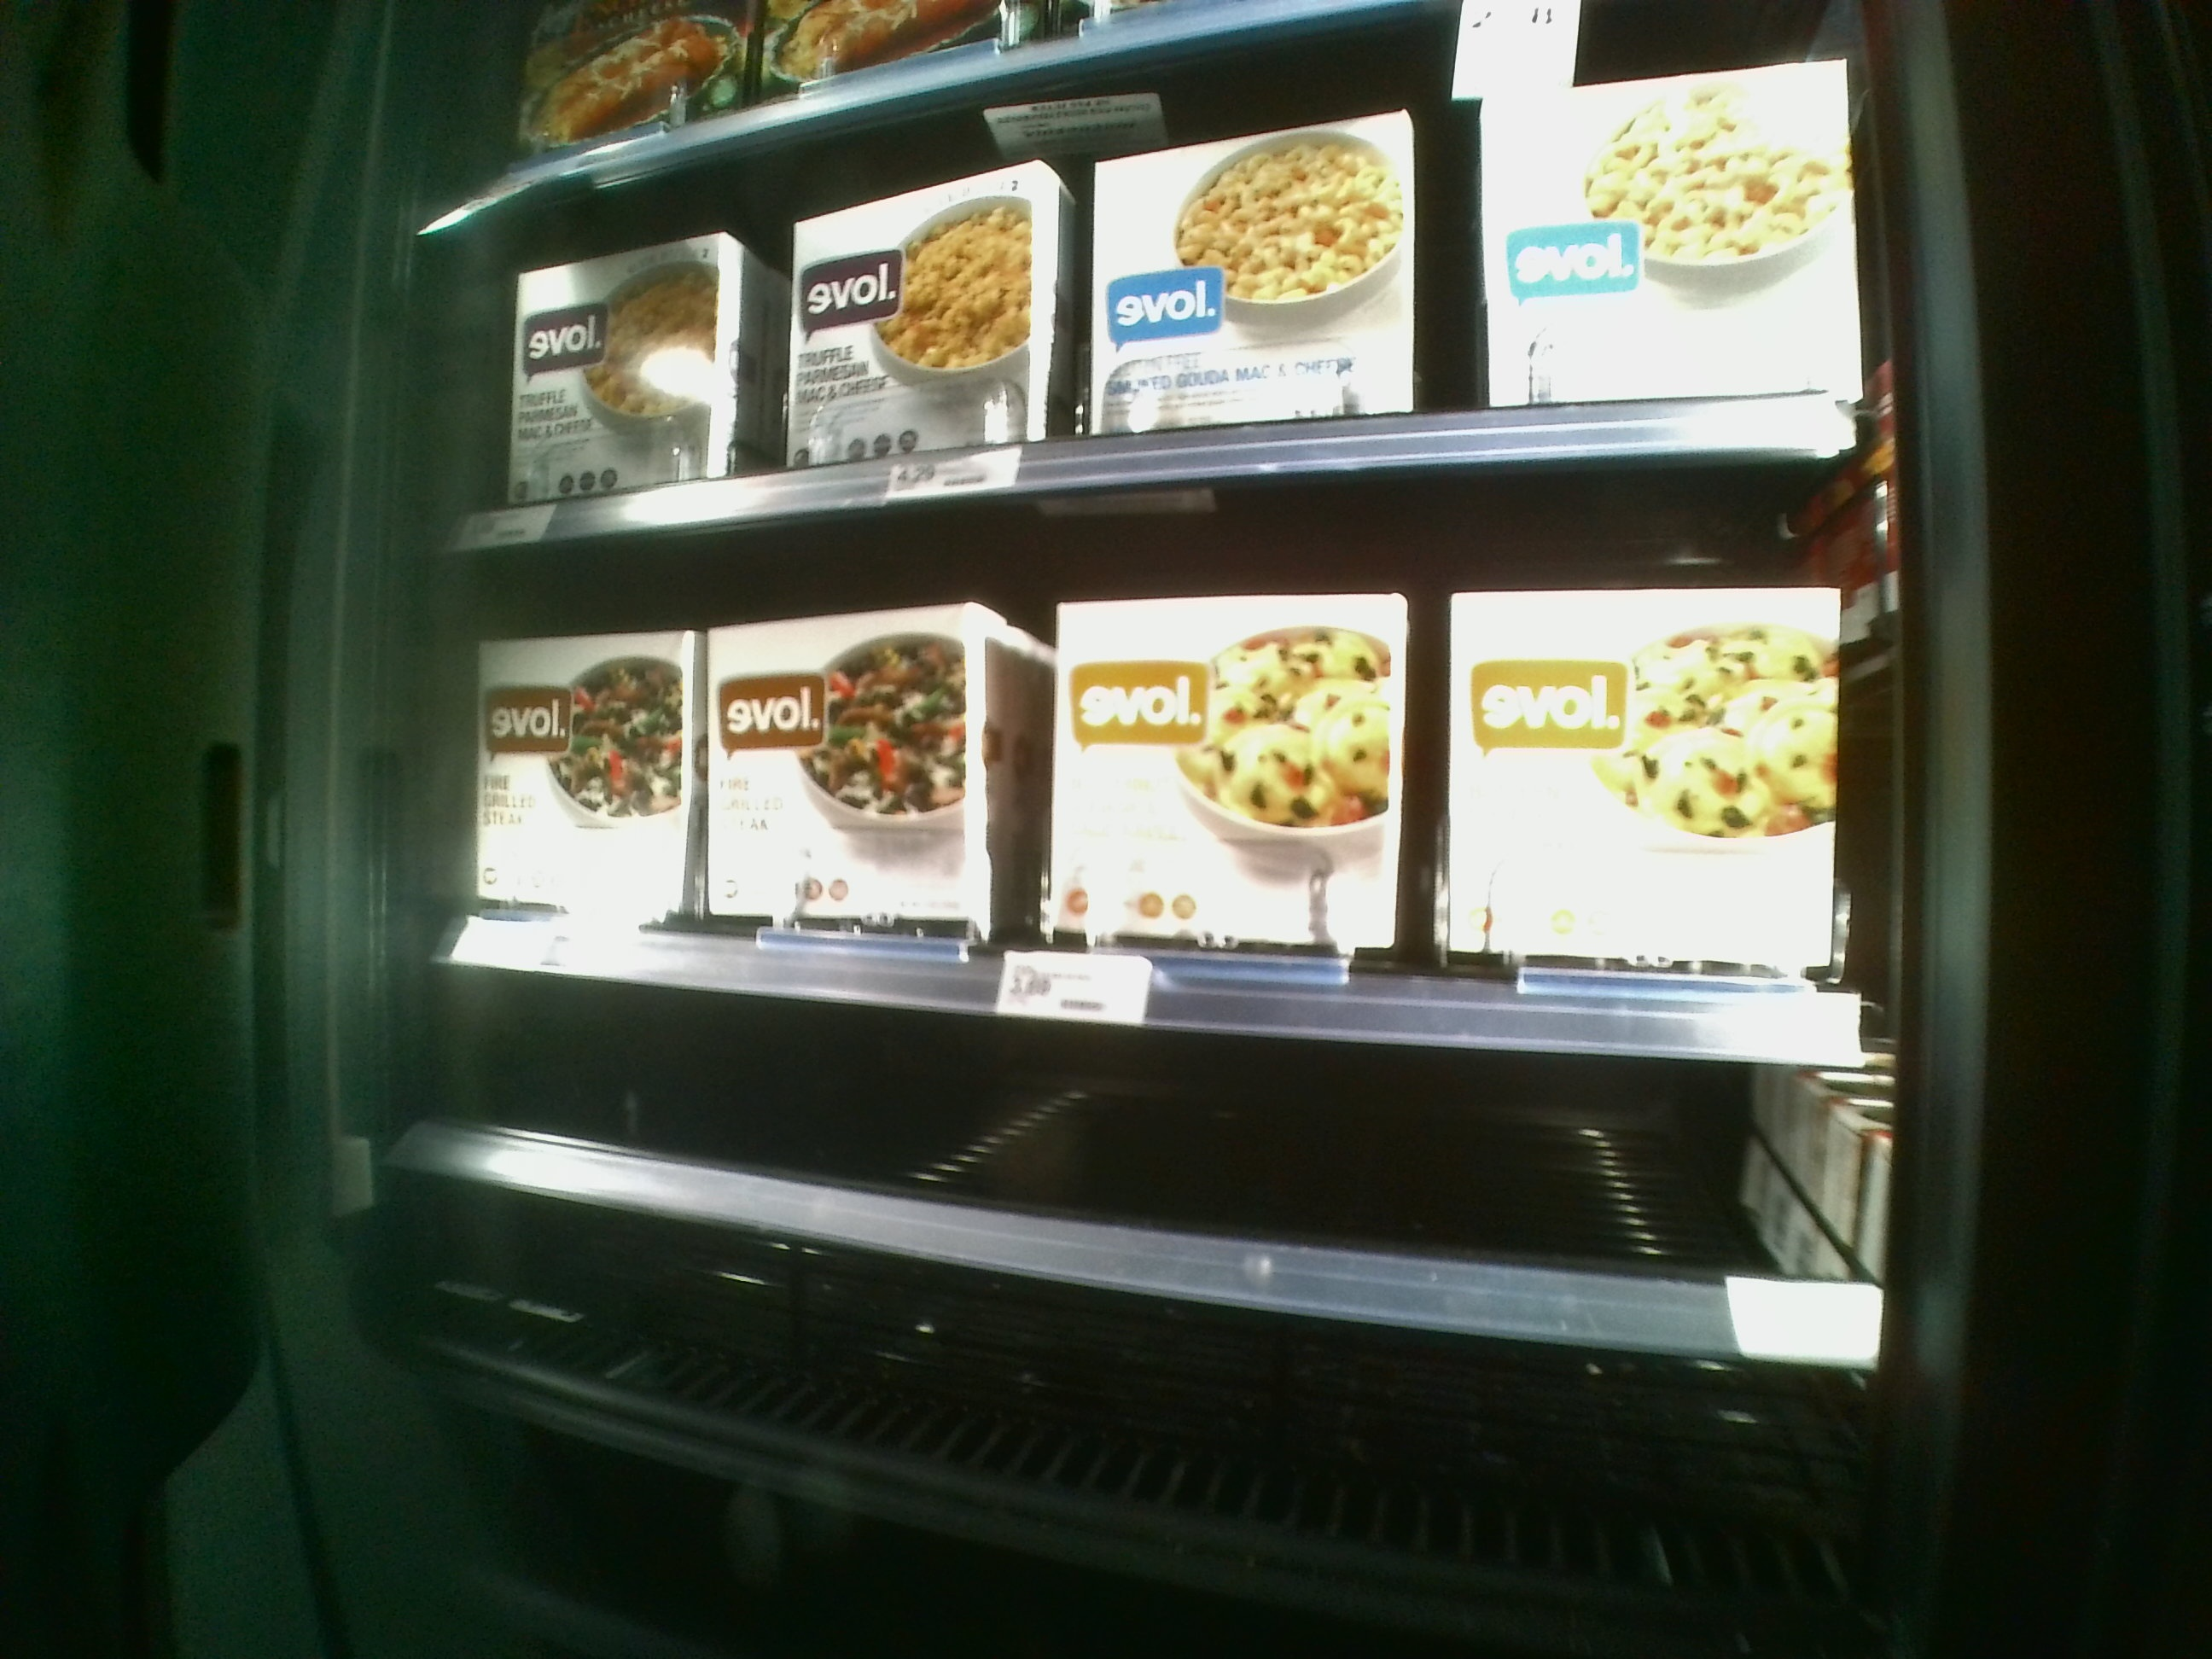shelf: (434, 979, 1886, 1530), (448, 518, 1885, 1021), (456, 105, 1885, 528)
